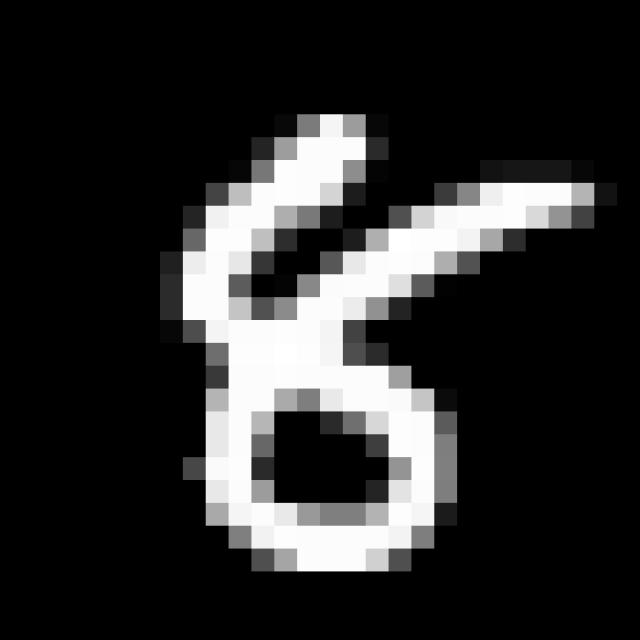eight -8-: (174, 110, 605, 577)
